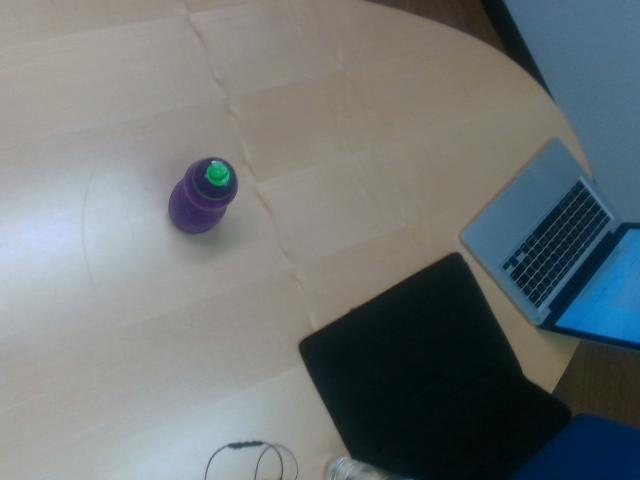bottle: (169, 160, 239, 231)
